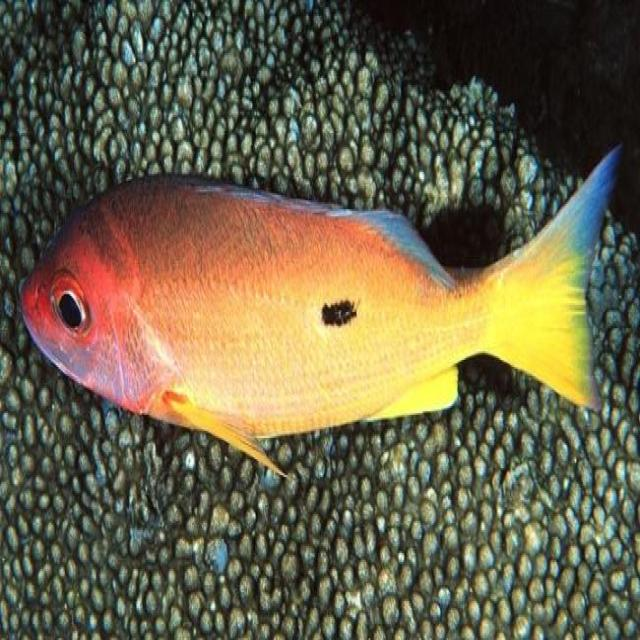ikan: (18, 138, 623, 479)
